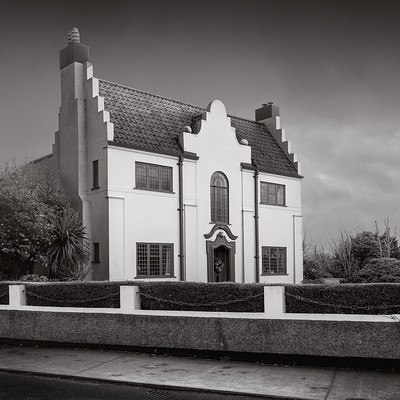medium: (44, 25, 306, 288)
